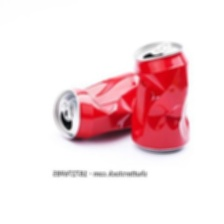can: (127, 38, 200, 155), (43, 67, 147, 142)
